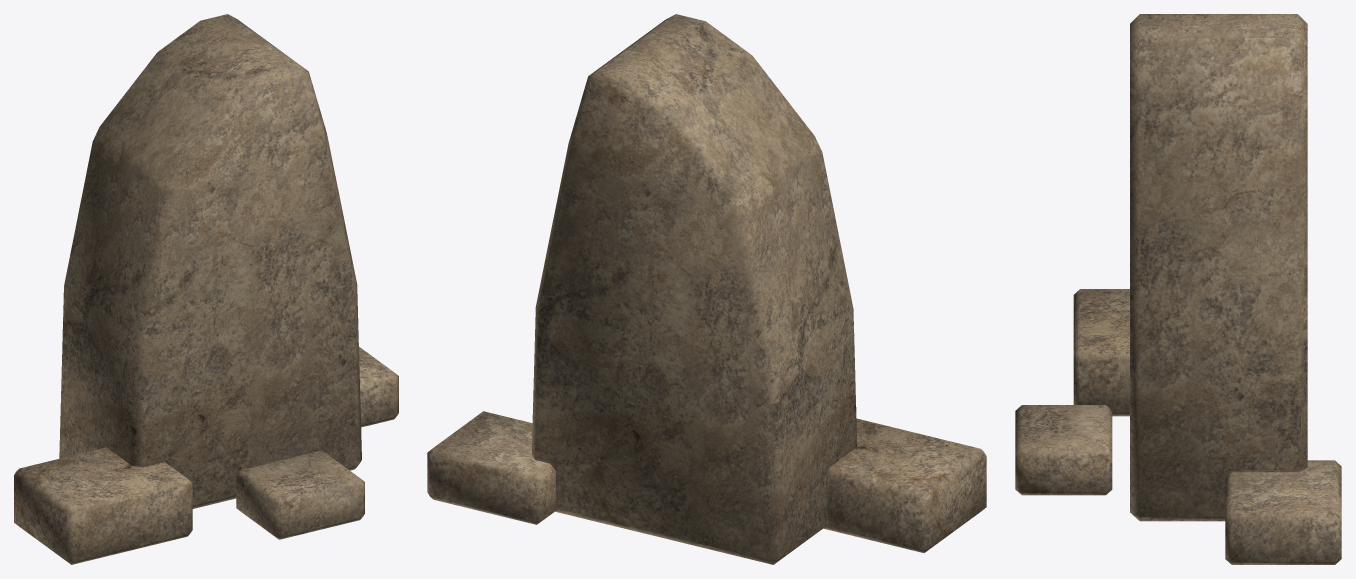
Rendered from WoodlandLore.gltf.
3 renders of one model, left to right at view 1: azimuth 30°, elevation 25°; view 2: azimuth 150°, elevation 25°; view 3: azimuth 270°, elevation 25°, orthographic. The views are drawn at different scales.
Parts seen in each view (by area): view 1: loreStone; view 2: loreStone; view 3: loreStone.
Boxes of the visible parts, x1,y1,x2,y2 form: loreStone: [14, 14, 398, 564]; loreStone: [427, 14, 986, 564]; loreStone: [1015, 14, 1341, 564].
Size of the model in its own units: 1.88 by 1.86 by 1.19.
Materials: 1 (1 with a texture image).
